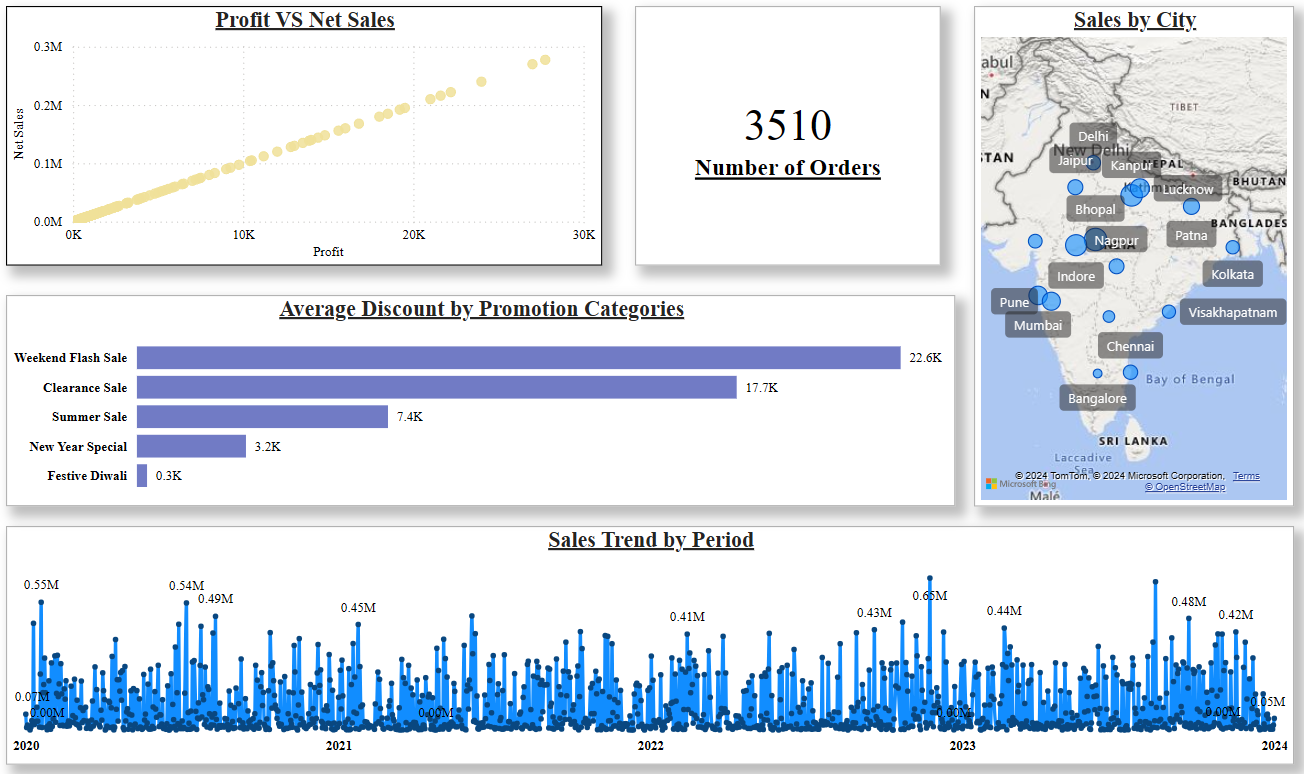

Layout of this report page (visuals, bound fields, positions):
{"tool":"powerbi","page":{"name":"Overview","canvas":[1280,720],"ordinal":0},"visuals":[{"type":"lineChart","title":"Sales Trend by Period","fields":{"Category":["Fact Table.Date (dd/mm/yyyy).Variation.Date Hierarchy.Year"],"Y":["Sum(Fact Table.Net Sales)"]},"box":[56,489,1171,217],"z":0},{"type":"scatterChart","title":"Profit VS Net Sales","fields":{"X":["Fact Table.Profit"],"Y":["Fact Table.Net Sales"]},"box":[56,16,542,236],"z":1000},{"type":"barChart","title":"Average Discount by  Promotion Categories","fields":{"Y":["Avg(Fact Table.Discount Value)"],"Category":["Dim Promotion.Promotion Name"]},"box":[56,279,863,192],"z":2000},{"type":"map","title":"Sales by City","fields":{"Category":["Dim Customers.City"],"Size":["Sum(Fact Table.Net Sales)"]},"box":[936.4,16.2,290.9,454.5],"z":3000},{"type":"card","fields":{"Values":["Count(Fact Table.Order ID)"]},"box":[628,16,278,236],"z":4000}]}

Visuals, with their boxes on the page's 1280x720 design canvas (x1, y1, x2, y2). These are canvas units, not pixel positions in the 1304x774 screenshot, which may show the page scaled, cropped or inside an application window:
"Sales Trend by Period" lineChart: bbox(56, 489, 1227, 706)
"Profit VS Net Sales" scatterChart: bbox(56, 16, 598, 252)
"Average Discount by  Promotion Categories" barChart: bbox(56, 279, 919, 471)
"Sales by City" map: bbox(936, 16, 1227, 471)
card - Count(Fact Table.Order ID): bbox(628, 16, 906, 252)
